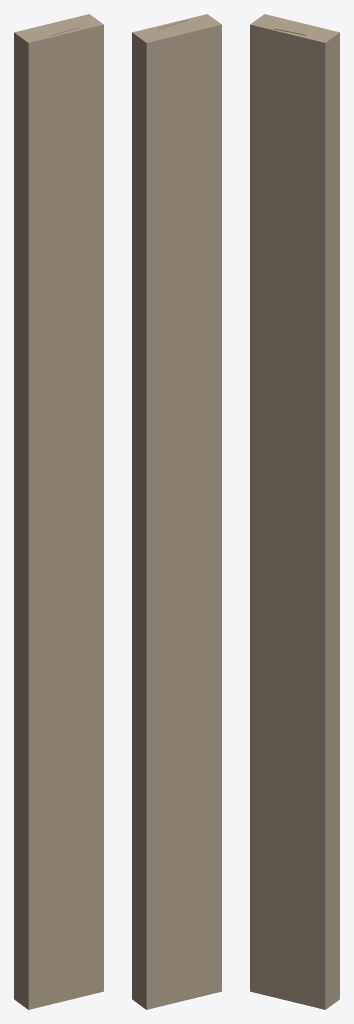
Rendered from T-CAPJIG-ML1.glb.
3 views of the same model, side by side, from view 1: azimuth 30°, elevation 25°; view 2: azimuth 210°, elevation 25°; view 3: azimuth 330°, elevation 25° (orthographic).
Visible parts, largest first — view 1: geometry_0; view 2: geometry_0; view 3: geometry_0.
Part boxes in pixels (left/top/right/bottom): geometry_0: left=14, top=14, right=103, bottom=1009; geometry_0: left=132, top=14, right=221, bottom=1009; geometry_0: left=250, top=14, right=339, bottom=1009.
Bounding box in the file's own units: 160 × 1960 × 53.17.
